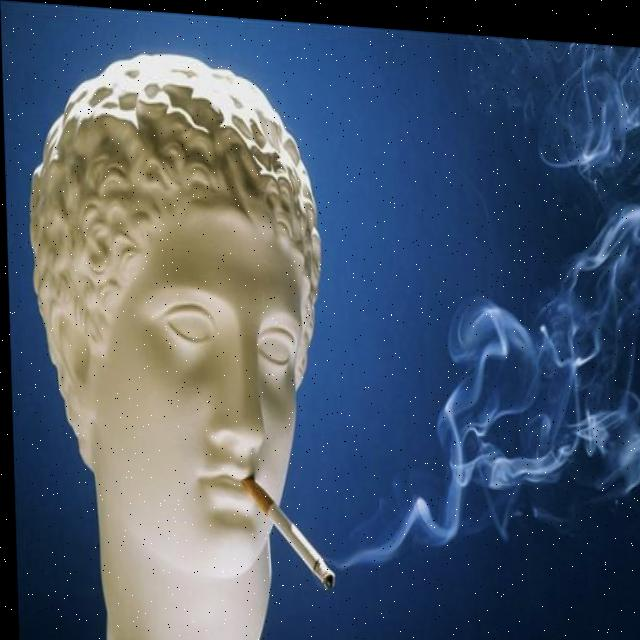cigarette: (238, 476, 332, 586)
